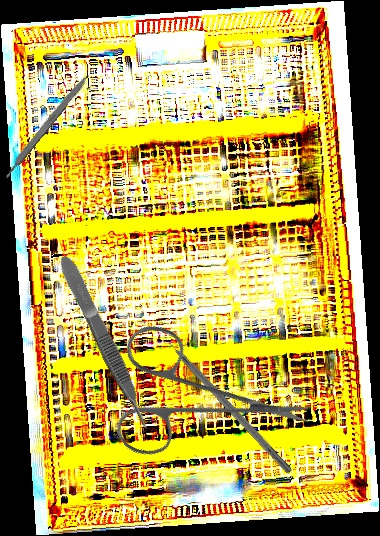Hook Surgical: (150, 322, 295, 476)
Iris Scissors: (75, 276, 315, 518)
Scalpel Handle: (0, 71, 92, 180)
Tissue Forceps: (55, 252, 154, 434)
